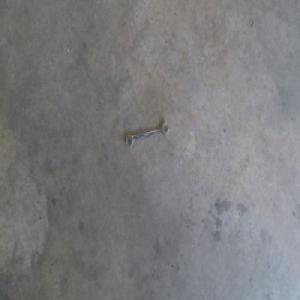Wrench: (125, 121, 169, 147)
